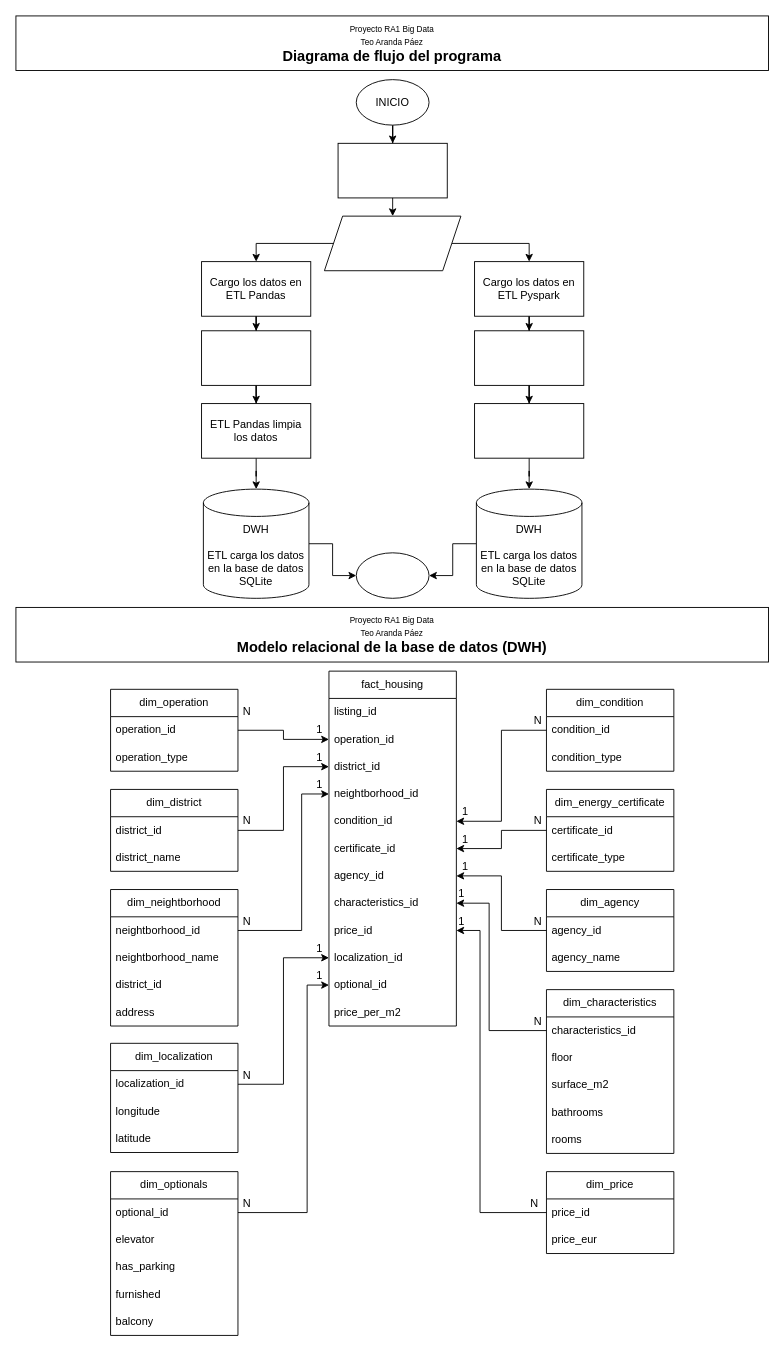
This 784x1351 diagram has some shape labels left out. Each missing label, with the centre of its shape:
"Contenedor Docker se inicia" belongs at point 392,170.
"Declaro datos del .csv" belongs at point 392,243.
"ETL Pandas extrae los datos" belongs at point 256,357.
"ETL Pyspark extrae los datos" belongs at point 529,357.
"ETL Pyspark limpia los datos" belongs at point 529,430.
"FIN" belongs at point 392,575.
